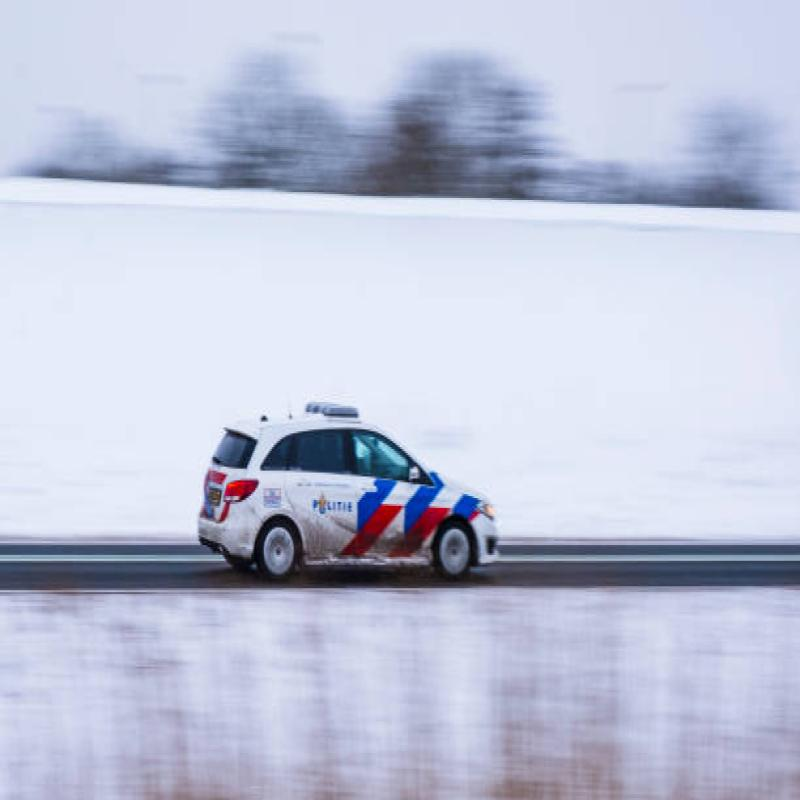car: (195, 386, 508, 615)
